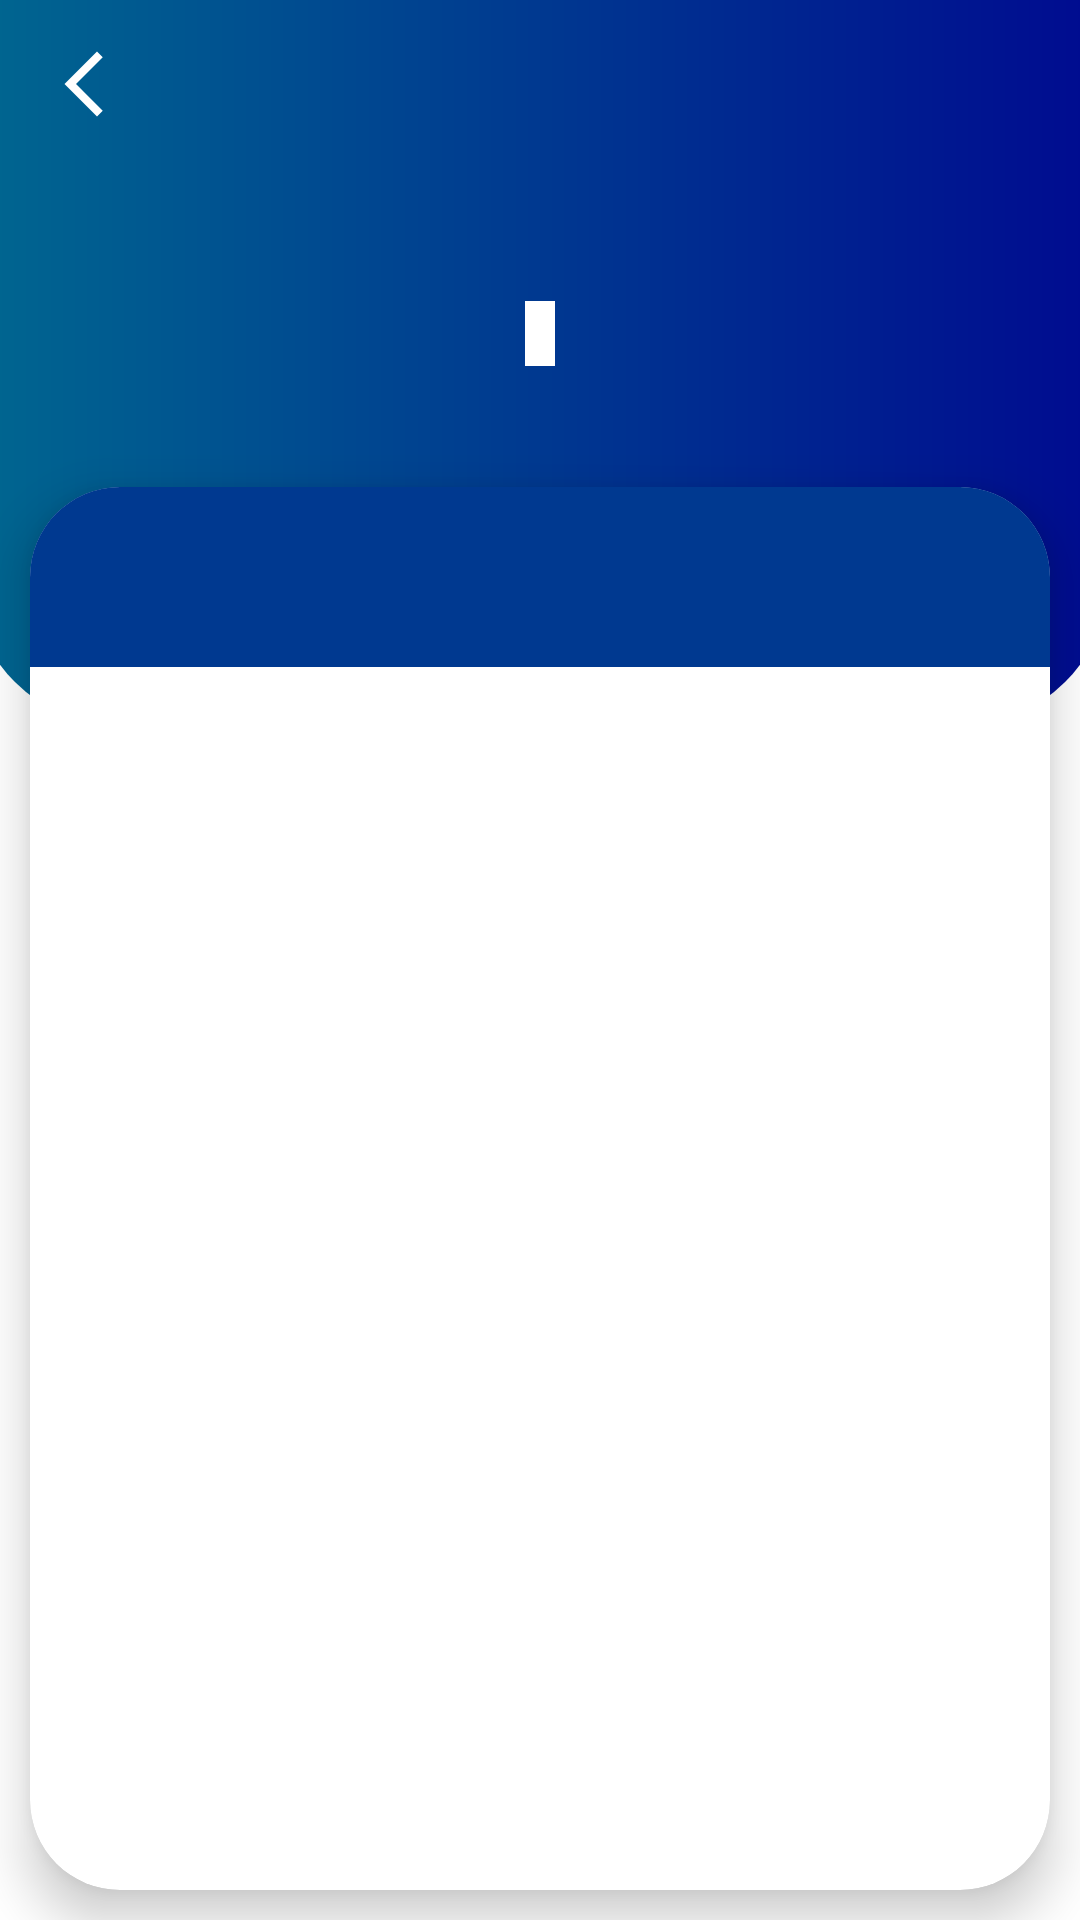

Icon click points for this 1080px x 1920px phone screenshot, format point (x, y):
arrow back: point (83, 84)
